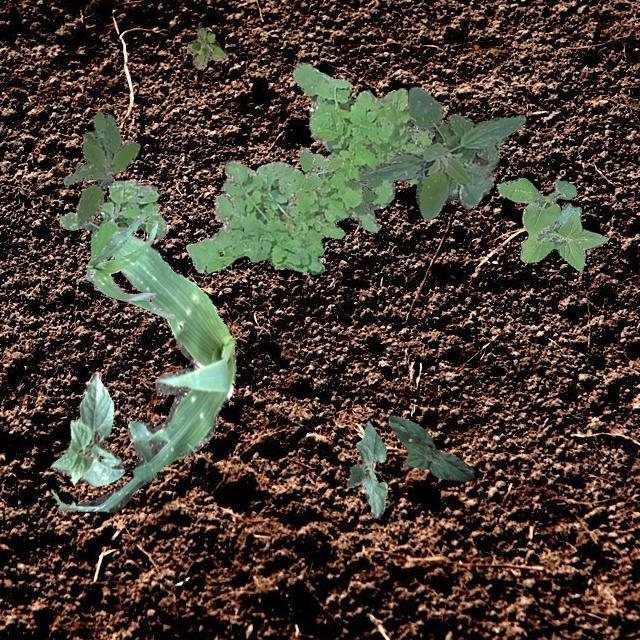crop: (51, 228, 236, 511), (358, 86, 526, 220), (84, 210, 174, 318), (50, 372, 124, 486), (388, 414, 473, 480), (346, 419, 386, 516)
weed: (186, 61, 432, 272), (496, 177, 606, 270), (59, 178, 168, 260), (62, 110, 138, 227), (297, 146, 343, 192), (187, 26, 224, 68), (342, 178, 382, 208)
